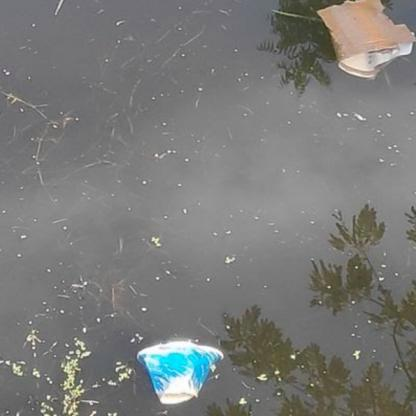Trash: (317, 0, 416, 80), (139, 339, 226, 406)
